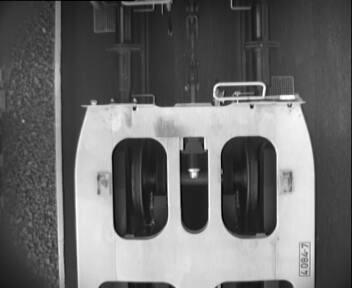twist_lock_2: (107, 133, 285, 242)
